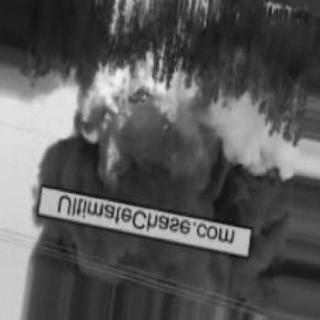Fire: (86, 5, 218, 188), (263, 3, 295, 23)
Smoke: (56, 126, 276, 214), (20, 240, 266, 306)
